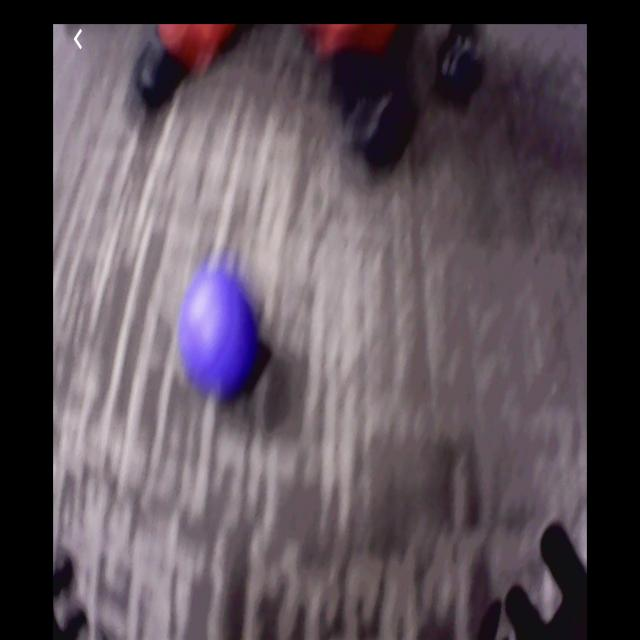ball: (178, 274, 261, 394)
